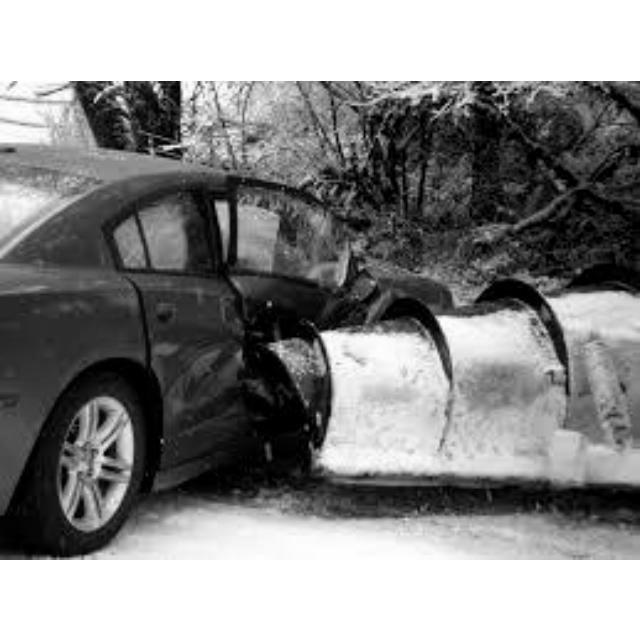doorouter-dent: (213, 172, 348, 352)
